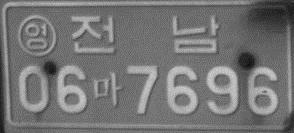0: (16, 64, 49, 115)
6: (165, 64, 199, 116), (245, 65, 279, 116), (55, 64, 88, 115)
7: (126, 64, 158, 115)
9: (205, 64, 239, 117)
마: (92, 72, 122, 106)
영: (16, 14, 57, 57)
전남_D: (70, 14, 220, 55)
